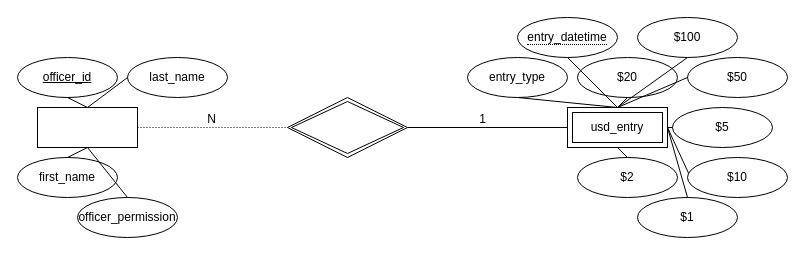
The diagram is 805 pixels wide and 255 high, and some of its shapes have lost their labels. Each missing label, with the box of its shape:
makes: (286, 96, 408, 158)
officer: (36, 106, 138, 148)
